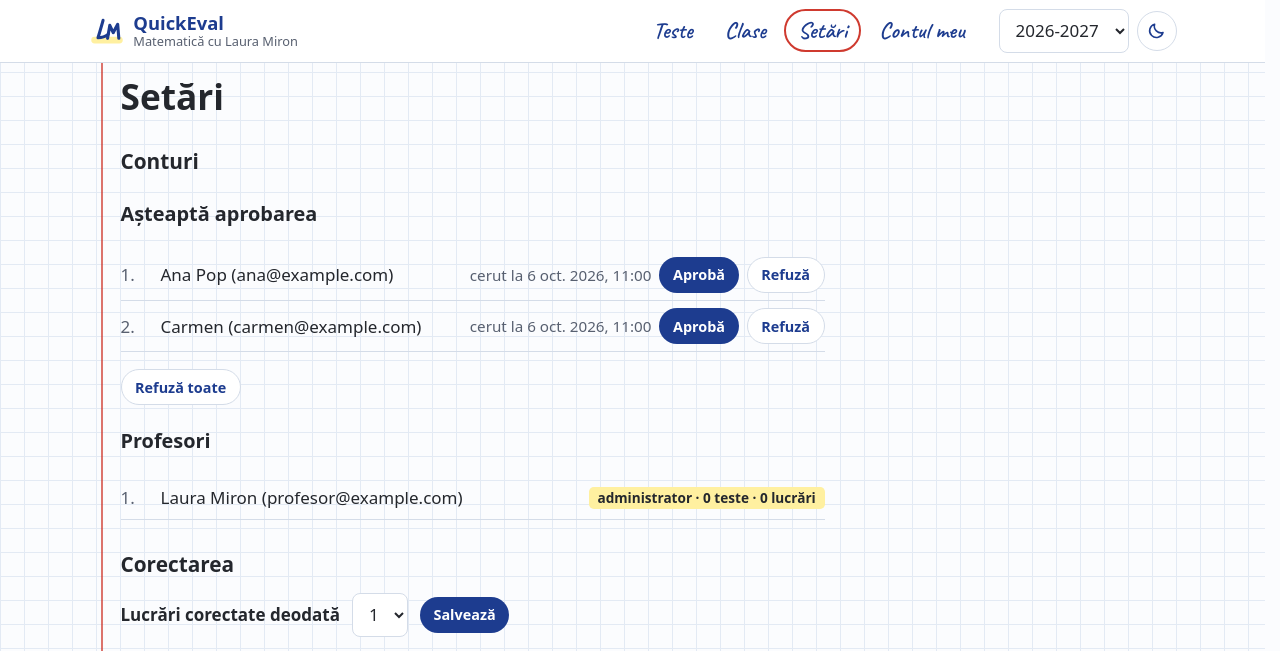
the accounts on Setări › refuses every account that waits at once, after a confirmation
Step 1. Click the button "Refuză toate" → (181, 387), box [120,369,241,405]
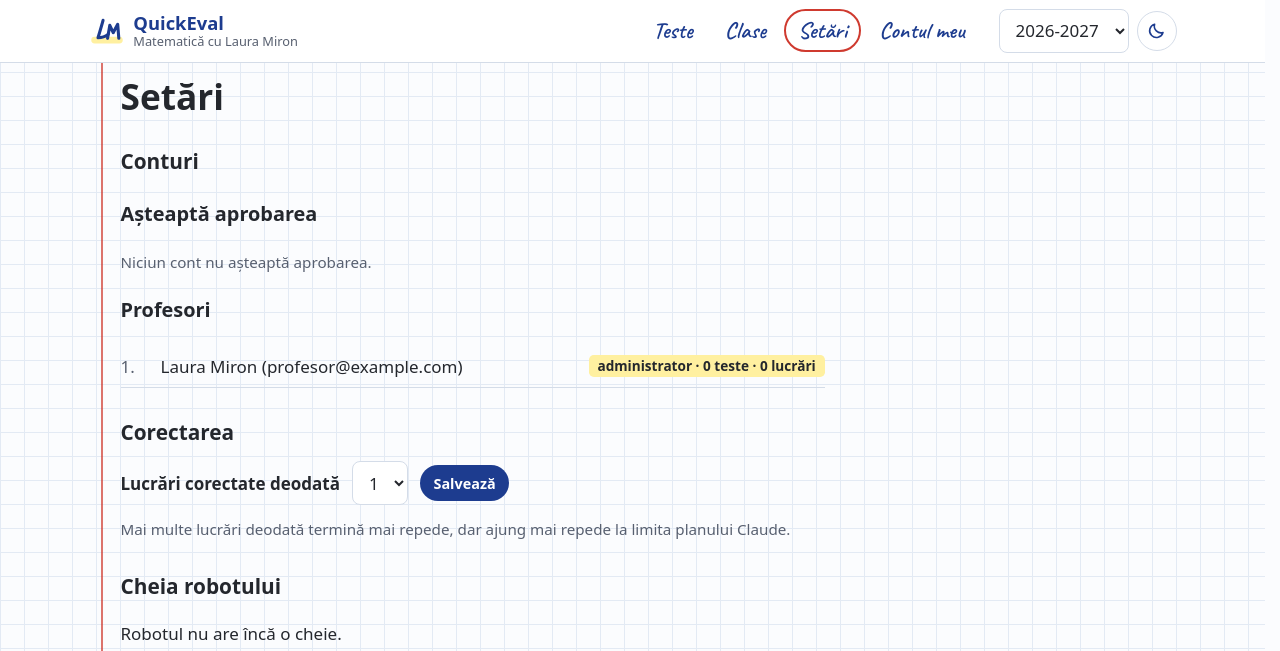
Now the text "Niciun cont nu așteaptă aprobarea." is shown, box [120,252,372,272]
